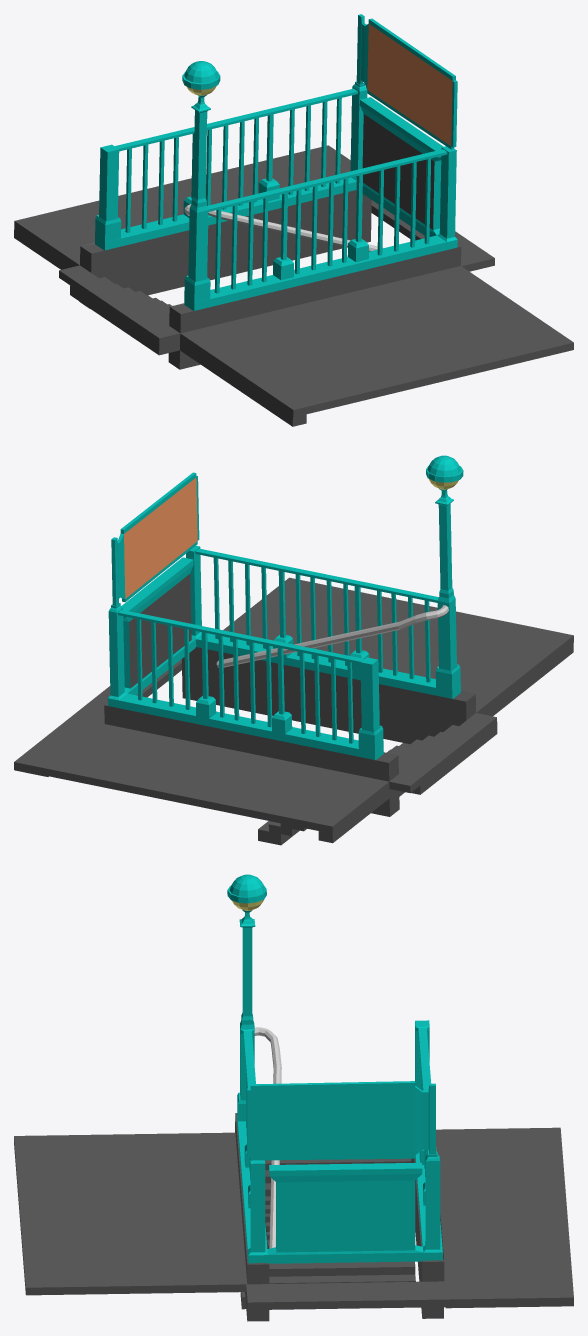
3 views of the same model, one above another, from view 1: azimuth 30°, elevation 25°; view 2: azimuth 150°, elevation 25°; view 3: azimuth 270°, elevation 25° (orthographic). The views are drawn at different scales.
Visible parts, largest first — view 1: group1426599882; view 2: group1426599882; view 3: group1426599882.
Part boxes in pixels (<box>): group1426599882: <box>14,14,573,426</box>; group1426599882: <box>14,455,573,845</box>; group1426599882: <box>14,874,573,1321</box>.
Bounding box in the file's own units: 0.8613 × 0.8551 × 1.16.
